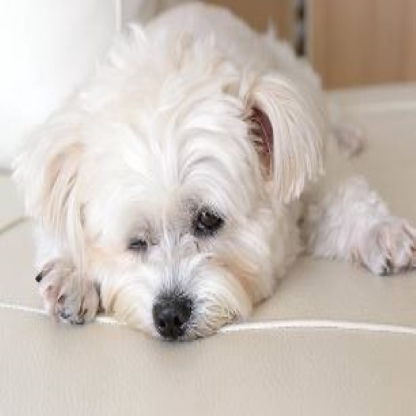maltese: (14, 2, 414, 351)
